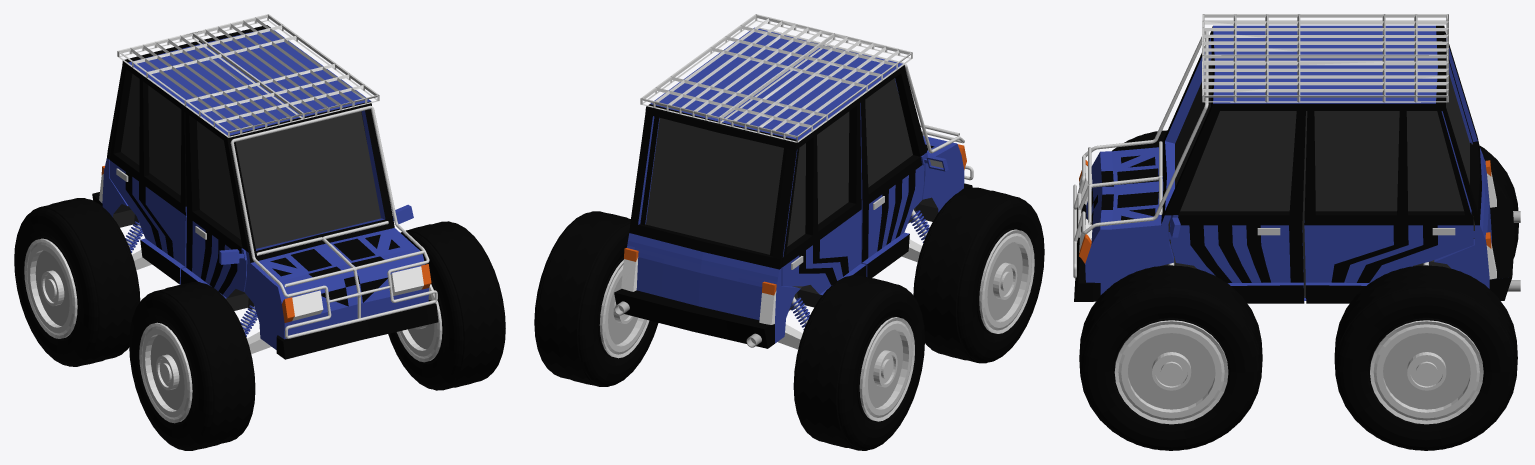
The picture shows the model from 3 angles, left to right: view 1: azimuth 30°, elevation 25°; view 2: azimuth 150°, elevation 25°; view 3: azimuth 270°, elevation 25°; orthographic projection. The views are drawn at different scales.
Parts seen in each view (by area): view 1: BODY30, WHEEL.001, WHEEL.004, WHEEL.003, FRAME; view 2: BODY30, WHEEL.004, WHEEL.001, WHEEL.002, FRAME; view 3: BODY30, WHEEL.003, WHEEL.002, FRAME, WHEEL.004, WHEEL.001.
Boxes of the visible parts, left/top/right/bottom form: BODY30: left=92, top=14, right=438, bottom=359; WHEEL.001: left=129, top=282, right=255, bottom=450; WHEEL.004: left=14, top=198, right=140, bottom=366; WHEEL.003: left=388, top=221, right=505, bottom=390; FRAME: left=230, top=105, right=437, bottom=338; BODY30: left=614, top=14, right=972, bottom=349; WHEEL.004: left=793, top=275, right=924, bottom=450; WHEEL.001: left=913, top=187, right=1044, bottom=363; WHEEL.002: left=534, top=211, right=658, bottom=386; FRAME: left=759, top=28, right=973, bottom=180; BODY30: left=1074, top=14, right=1520, bottom=303; WHEEL.003: left=1079, top=265, right=1262, bottom=450; WHEEL.002: left=1334, top=265, right=1517, bottom=450; FRAME: left=1073, top=31, right=1208, bottom=278; WHEEL.004: left=1479, top=146, right=1518, bottom=258; WHEEL.001: left=1112, top=130, right=1167, bottom=151.
Size of the model in its own units: 168 by 151 by 193.
